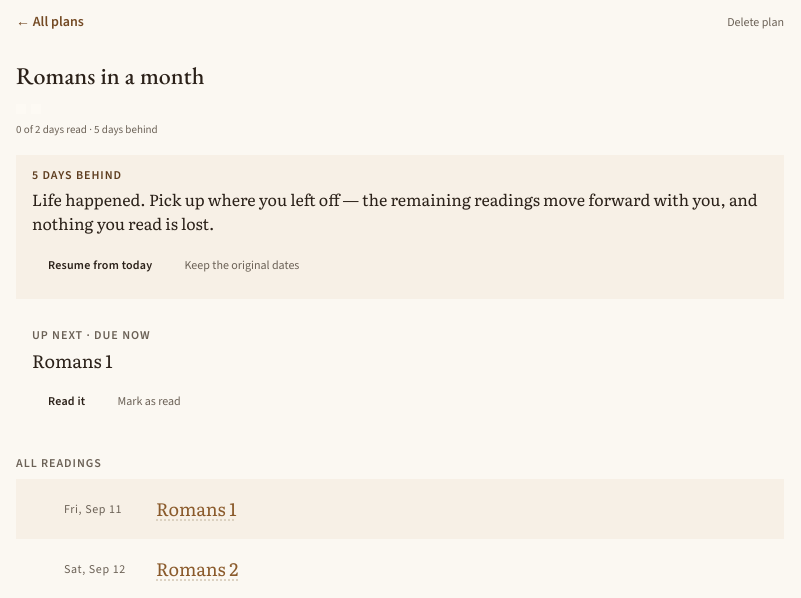
day-toggle ↔ reschedule mutual exclusion › sends no day-toggle POST while a reschedule is in flight
Click the button "Resume from today": (100, 264) [32,242,168,286]
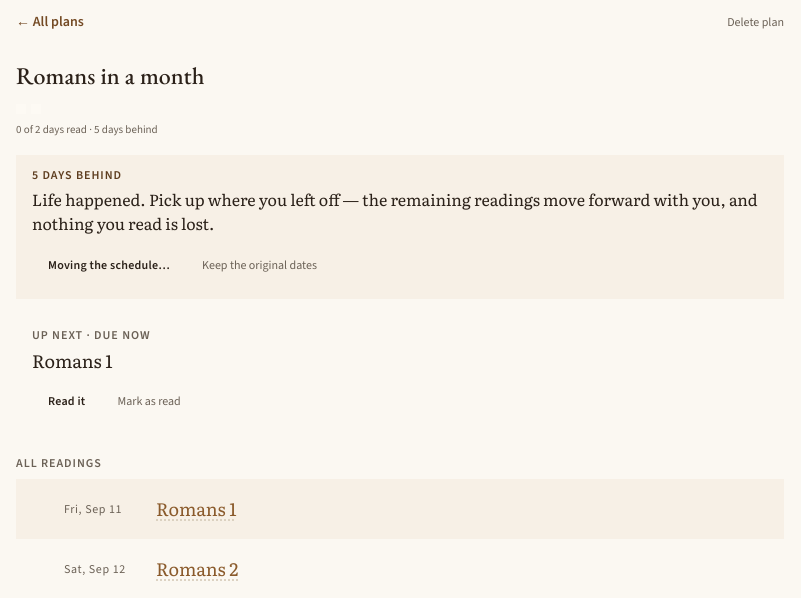
Now the button "Moving the schedule…" is shown, box [32,242,186,286]
